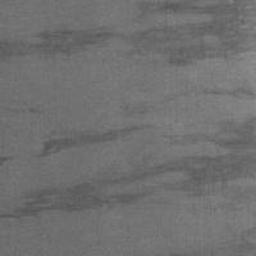Water spot: (0, 115, 256, 221), (0, 0, 256, 68), (118, 82, 256, 122), (28, 124, 155, 159), (146, 224, 256, 256), (1, 106, 45, 115), (0, 154, 17, 168)
